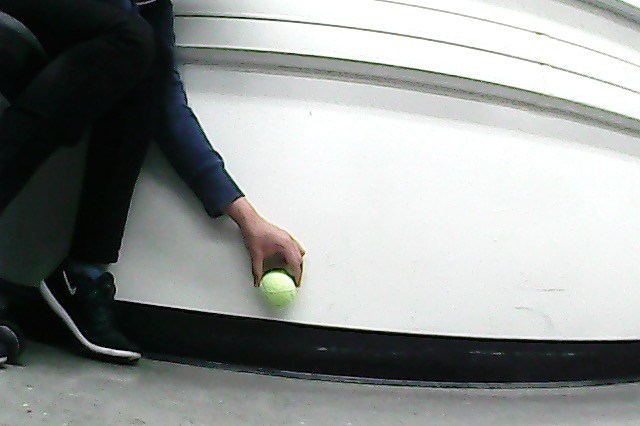ball: (260, 271, 297, 309)
